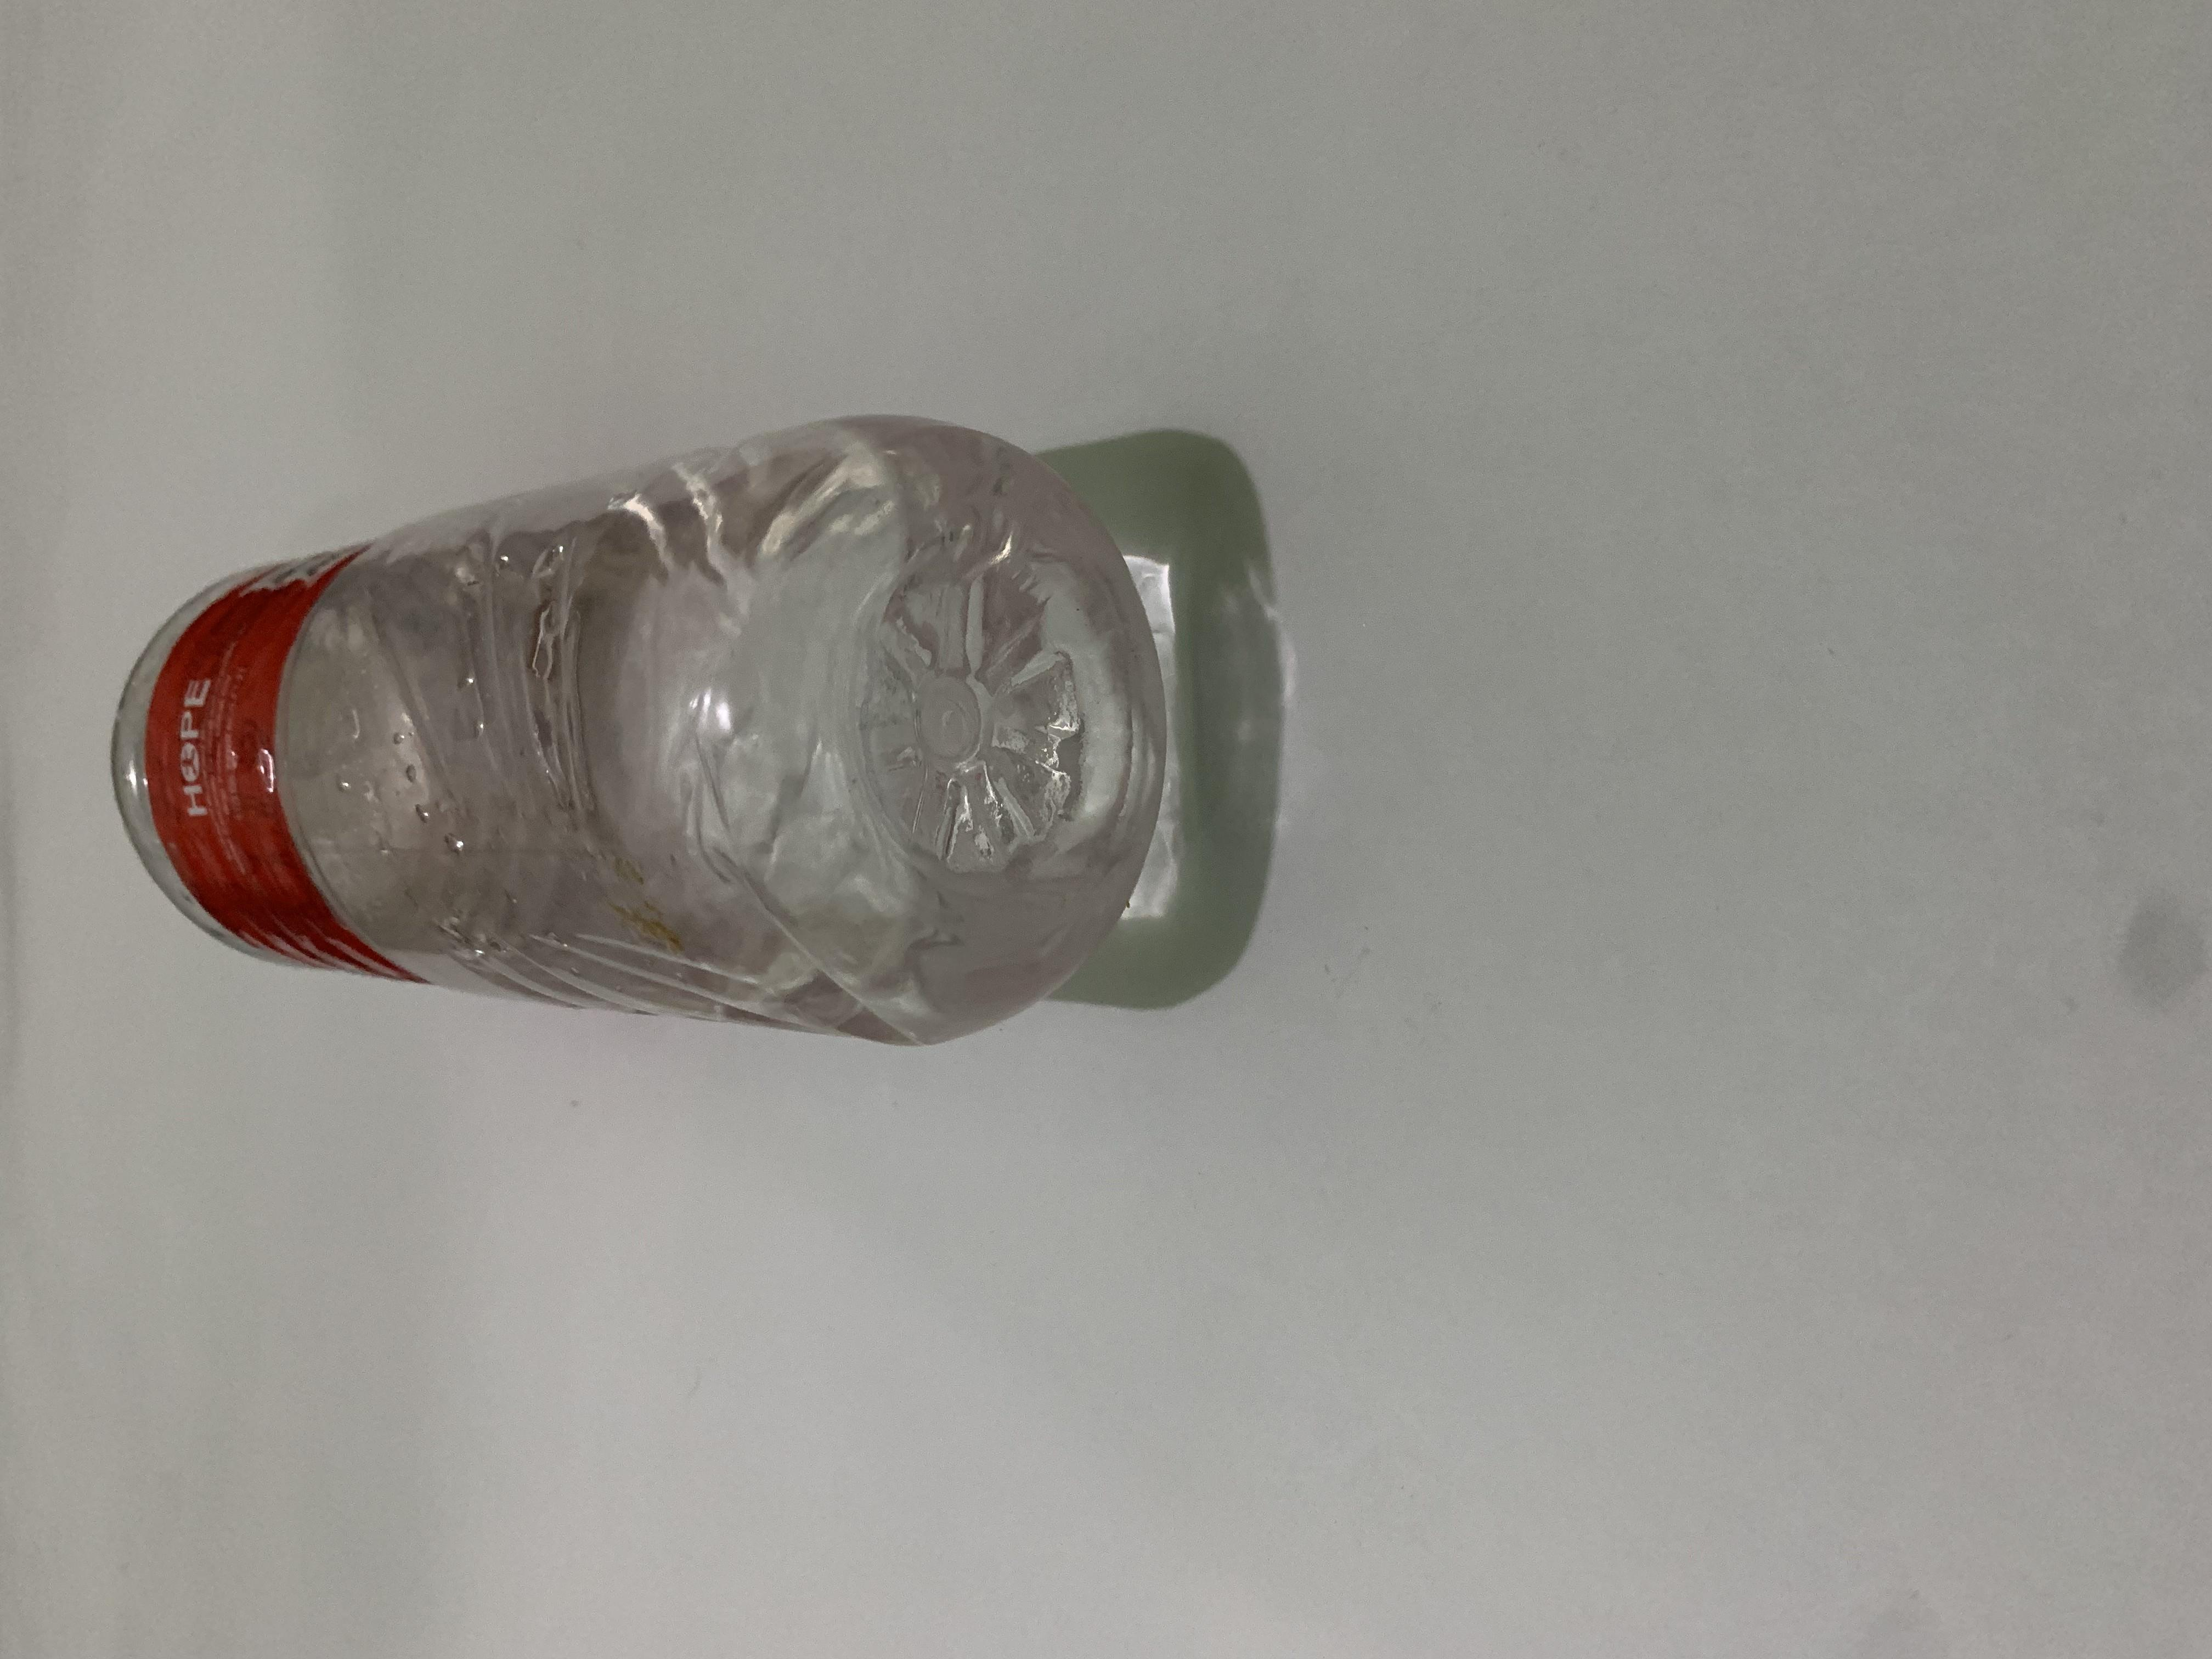bottle: (0, 61, 568, 868)
